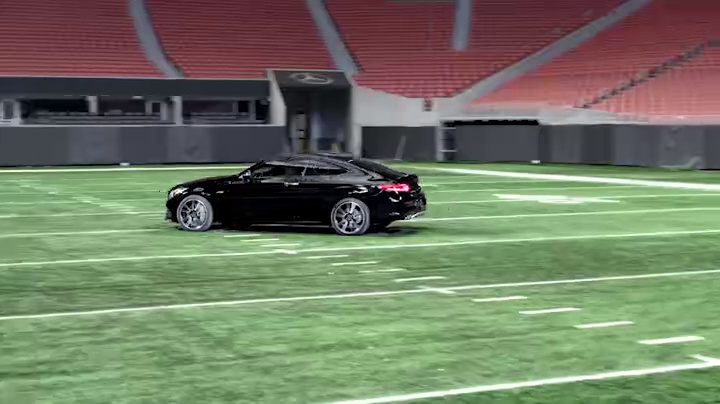amg: (161, 146, 430, 242)
